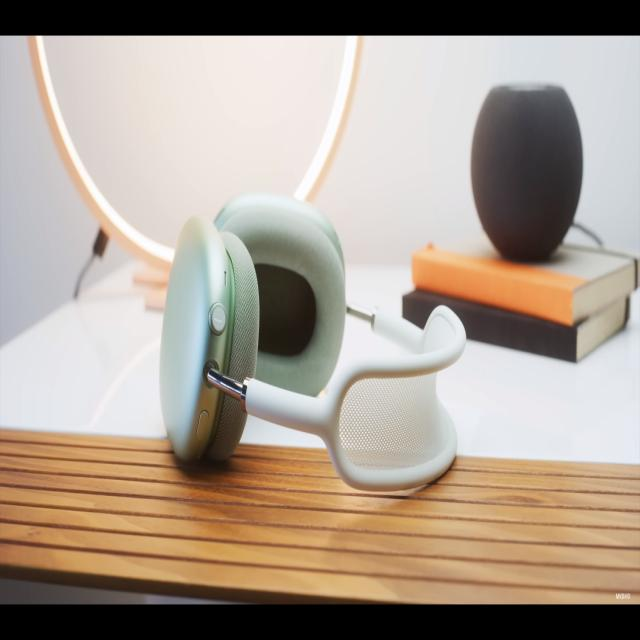Headphone: (193, 205, 335, 303), (219, 180, 219, 180)
